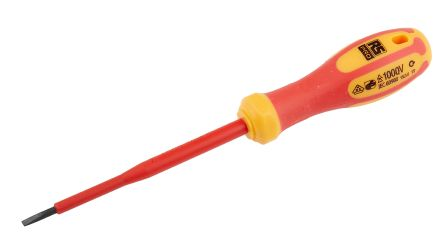screwdriver: (21, 27, 432, 227)
